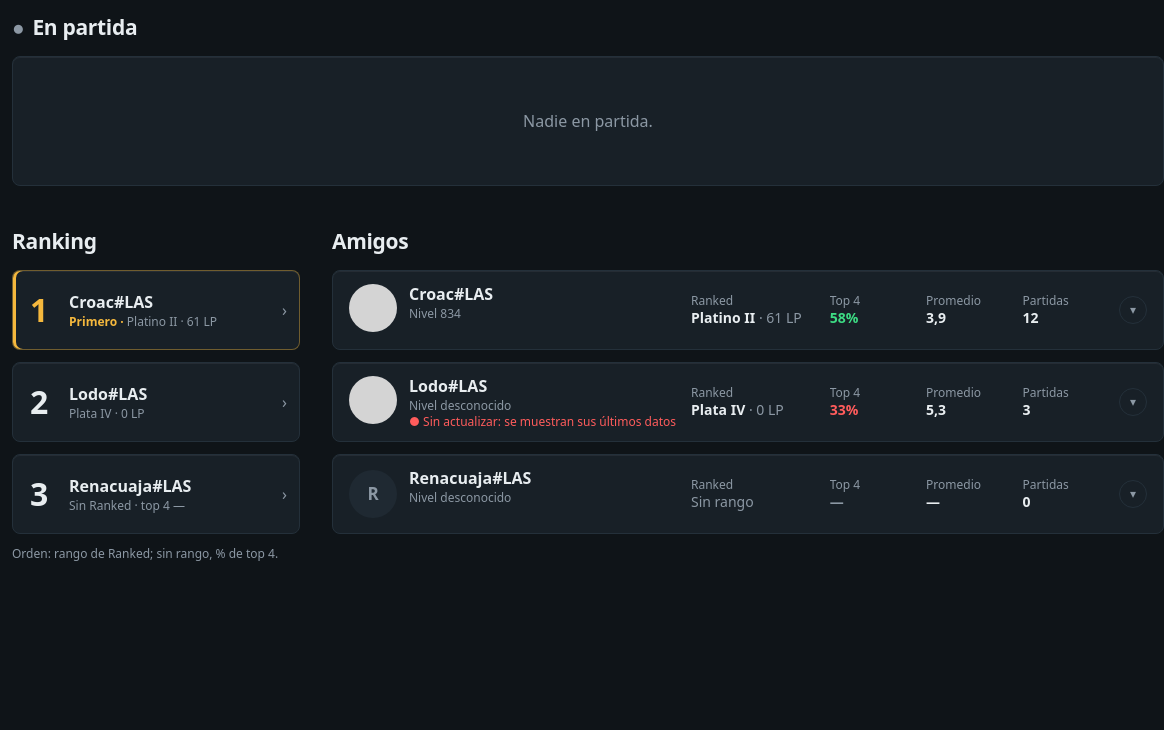
Test: historial de puestos en el panel › aplica el filtro de modo a la grilla
Click the button "Croac#LAS" at (451, 294), box [409, 282, 493, 306]
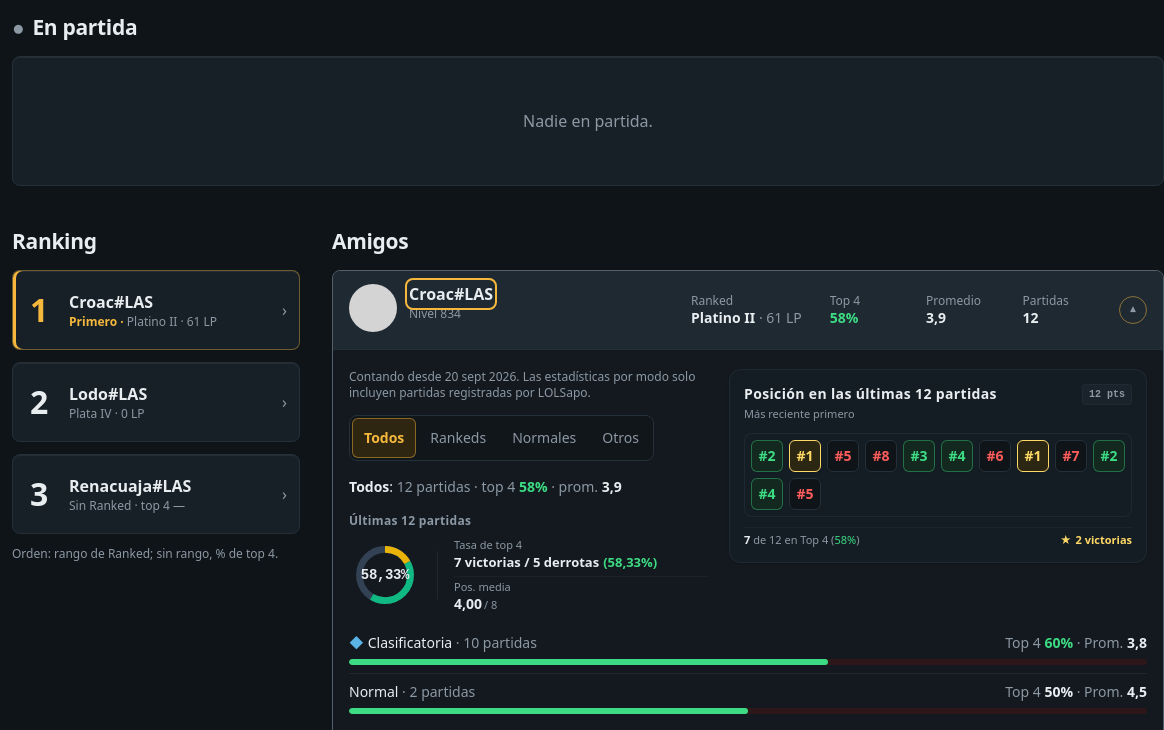
Click the button "Rankeds" at (458, 438), box [418, 418, 498, 458]
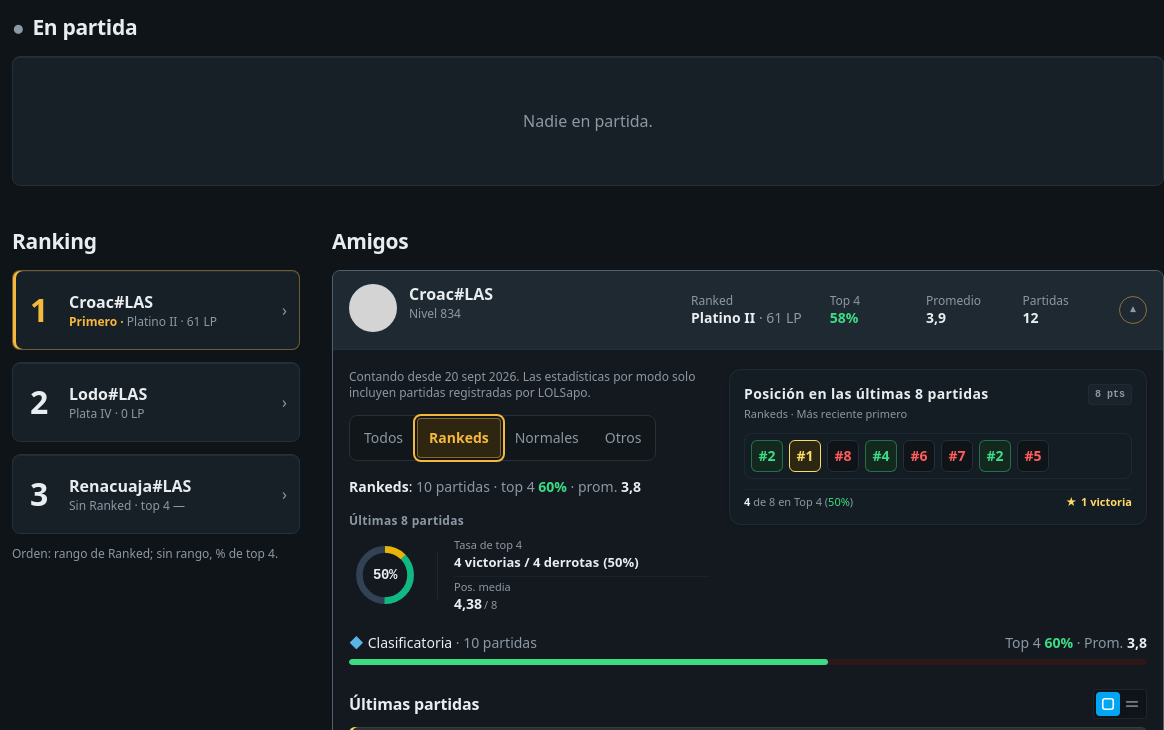
Result: the heading "Posición en las últimas 8 partidas" is shown at [744, 384, 989, 404]
Result: the element named "Historial de puestos" shows "Rankeds · Más reciente primero" at [729, 369, 1147, 525]
Click the button "Otros" at (623, 438), box [593, 418, 654, 458]
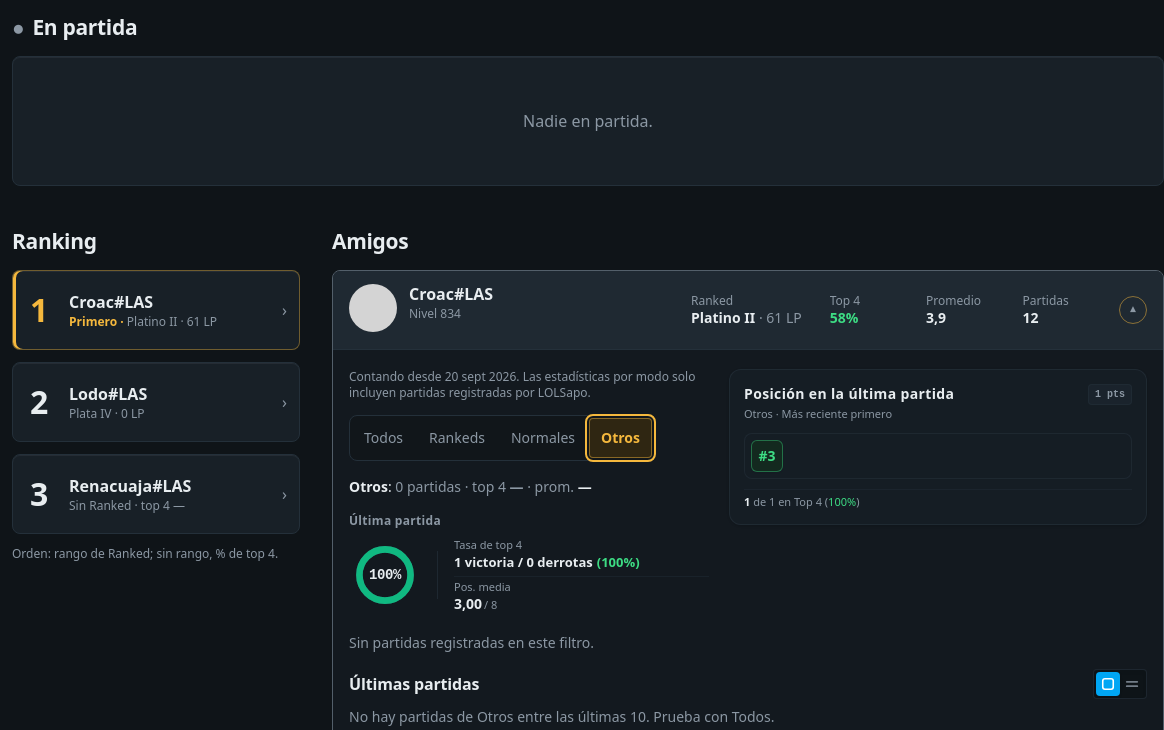
Result: the heading "Posición en la última partida" is shown at [744, 384, 954, 404]
